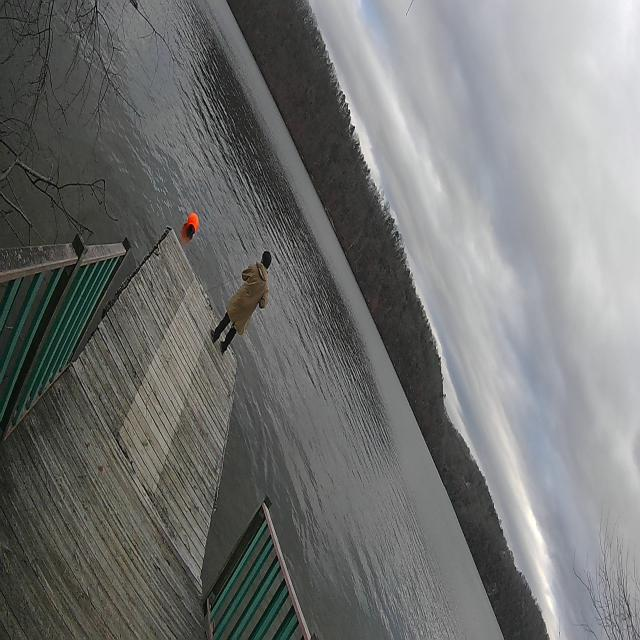Buoy: (181, 205, 201, 245)
